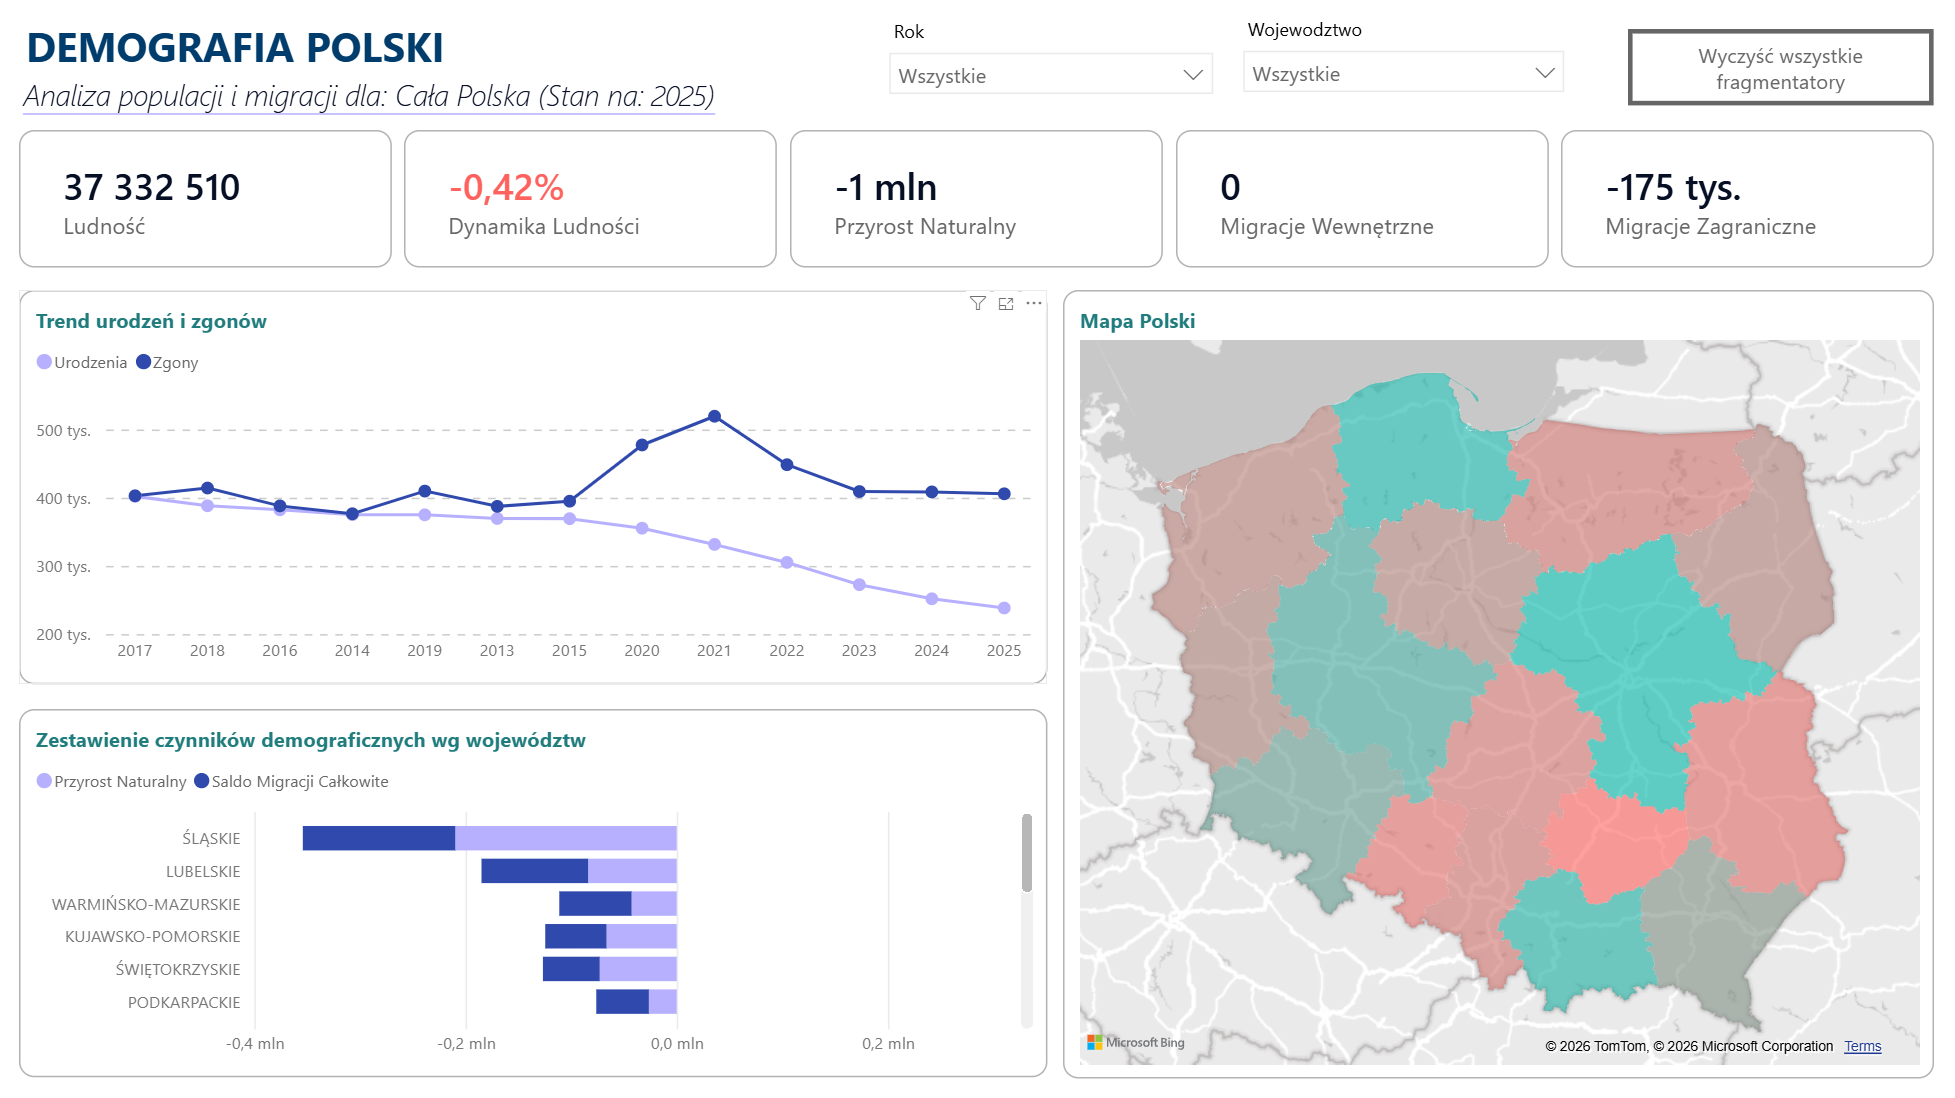

The dashboard page shown, as its layout file describes it:
{"tool":"powerbi","page":{"name":"Strona 1","canvas":[1280,720],"ordinal":0},"visuals":[{"type":"textbox","box":[12,6.7,334,49.2],"z":0},{"type":"textbox","box":[0,49.3,607.5,39.4],"z":1000},{"type":"lineChart","title":"Trend urodzeń i zgonów","fields":{"Category":["Demografia.Rok"],"Y":["MIARY.M_Urodzenia","MIARY.M_Zgony"]},"box":[12.4,189.8,672.7,257.8],"z":2000},{"type":"filledMap","title":"Mapa Polski","fields":{"Category":["Demografia.Wojewodztwo"]},"box":[695.6,189.9,569.7,515.7],"z":3000},{"type":"cardVisual","fields":{"Data":["MIARY.M_Ludnosc"]},"box":[12.1,84.8,243.6,90.2],"z":4000},{"type":"barChart","title":"Zestawienie czynników demograficznych wg województw","fields":{"Category":["Demografia.Wojewodztwo"],"Y":["MIARY.M_Przyrost_Naturalny","MIARY.M_Saldo_Migracji_Calkowite"]},"box":[12.4,464,672.7,240.8],"z":5000},{"type":"slicer","fields":{"Values":["Demografia.Rok"]},"box":[571.9,6.5,231.7,73.9],"z":6000},{"type":"slicer","fields":{"Values":["Demografia.Wojewodztwo"]},"box":[803.6,5.2,230.3,75.3],"z":7000},{"type":"cardVisual","fields":{"Data":["MIARY.M_Migracje_Zagraniczne"]},"box":[1021.7,84.8,243.6,90.2],"z":8000},{"type":"cardVisual","fields":{"Data":["MIARY.M_Dynamika_Ludnosci_YoY"]},"box":[264.5,84.8,243.6,90.2],"z":9000},{"type":"cardVisual","fields":{"Data":["MIARY.M_Przyrost_Naturalny"]},"box":[516.9,84.8,243.6,90.2],"z":10000},{"type":"cardVisual","fields":{"Data":["MIARY.M_Migracje_Wewnetrzne"]},"box":[769.3,84.8,243.6,90.2],"z":11000},{"type":"actionButton","box":[1065.4,19,200,50],"z":12000}]}

Visuals, with their boxes in screenshot pixels (x1, y1, x2, y2), scaled from the page's 1280x720 canvas onto the 1955x1098 screenshot:
textbox: region(18, 10, 528, 85)
textbox: region(0, 75, 928, 135)
"Trend urodzeń i zgonów" lineChart: region(19, 289, 1046, 683)
"Mapa Polski" filledMap: region(1062, 290, 1933, 1076)
cardVisual - MIARY.M_Ludnosc: region(18, 129, 391, 267)
"Zestawienie czynników demograficznych wg województw" barChart: region(19, 708, 1046, 1075)
slicer - Demografia.Rok: region(873, 10, 1227, 123)
slicer - Demografia.Wojewodztwo: region(1227, 8, 1579, 123)
cardVisual - MIARY.M_Migracje_Zagraniczne: region(1560, 129, 1933, 267)
cardVisual - MIARY.M_Dynamika_Ludnosci_YoY: region(404, 129, 776, 267)
cardVisual - MIARY.M_Przyrost_Naturalny: region(789, 129, 1162, 267)
cardVisual - MIARY.M_Migracje_Wewnetrzne: region(1175, 129, 1547, 267)
actionButton: region(1627, 29, 1933, 105)
